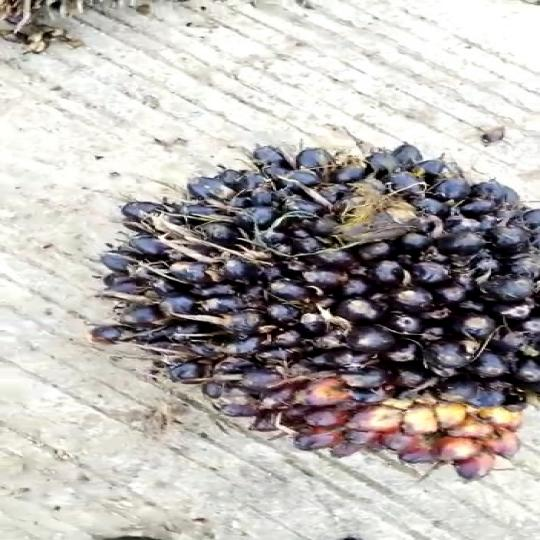mentah: (105, 126, 540, 488)
